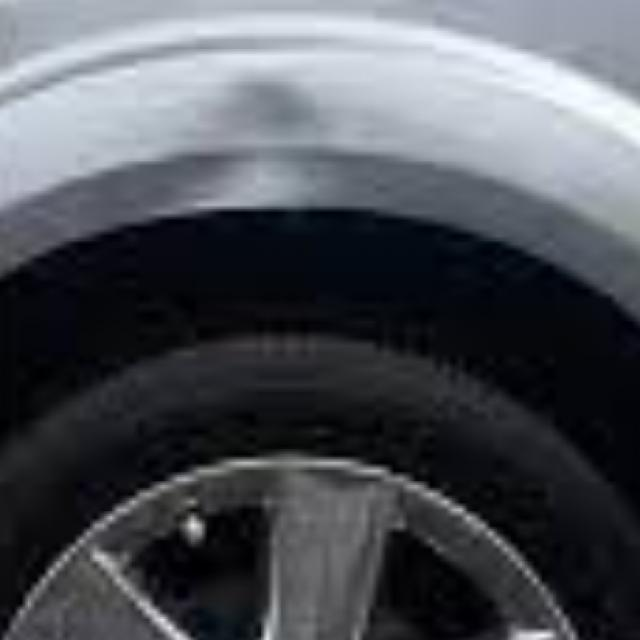dents: (214, 66, 351, 199)
